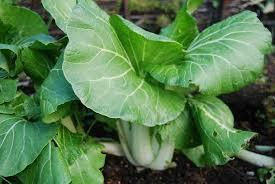Healthy-Pechay: (63, 5, 275, 165), (0, 1, 113, 184)
